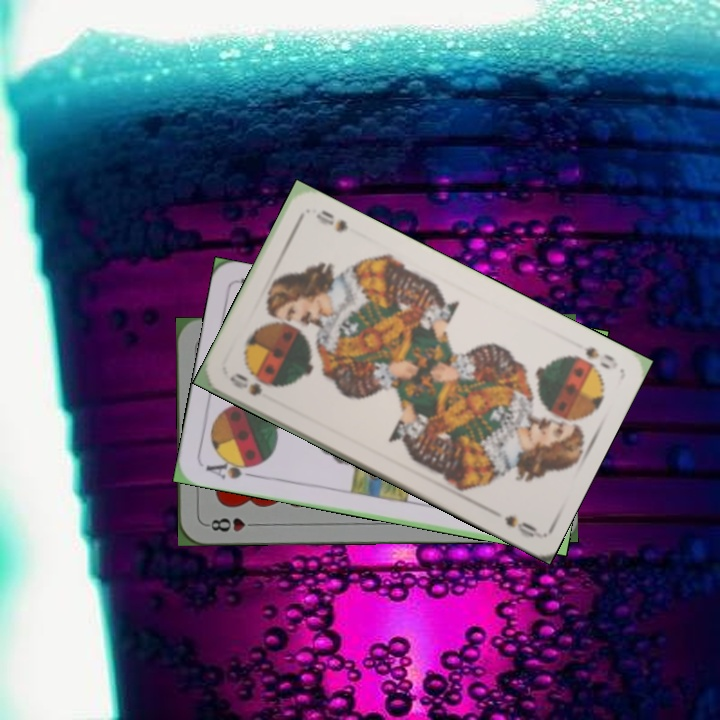H8: (202, 514, 261, 534)
SA: (201, 454, 261, 482)
SO: (570, 343, 617, 372), (225, 369, 265, 399)
